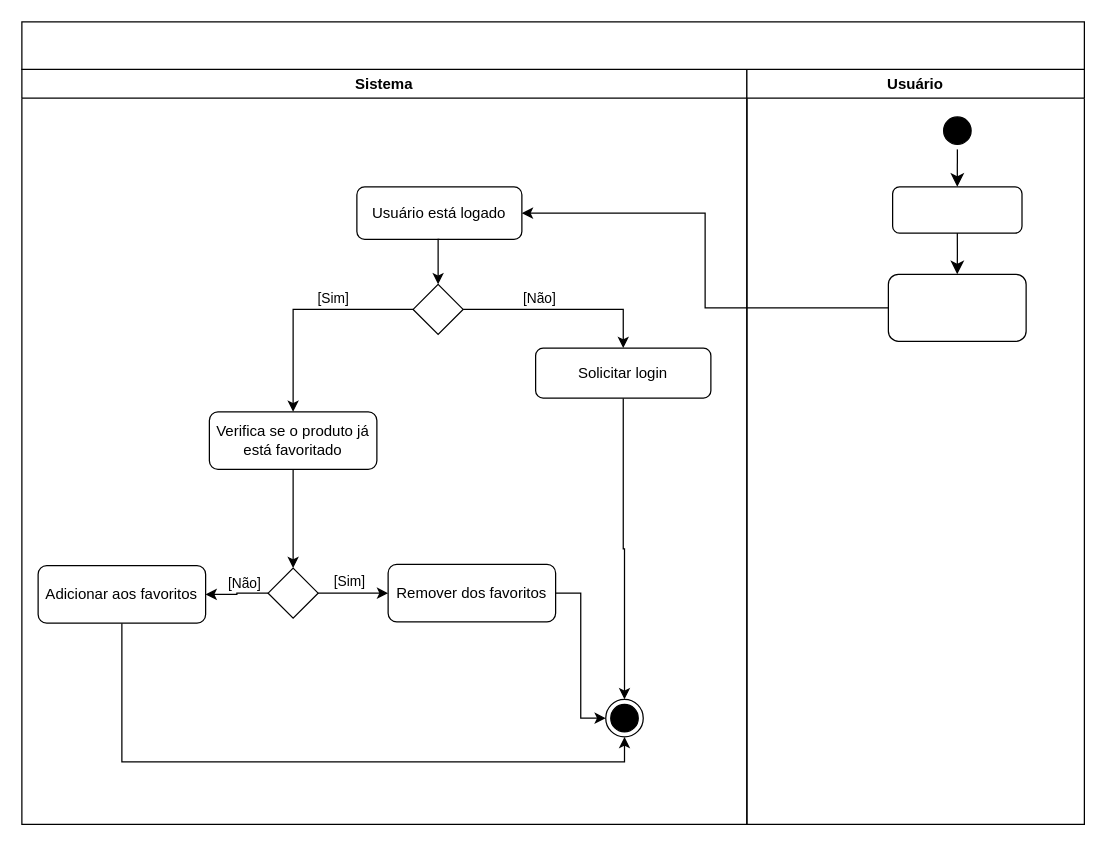
The diagram is 1106 pixels wide and 846 high, and some of its shapes have lost their labels. Here are the shapes that lost their labels. From the top down, the box of each, then its label:
(21, 21, 1084, 69): Diagrama de Atividades: Favoritar Produto
(891, 186, 1022, 233): Visualizar produto
(887, 273, 1026, 341): Clicar no botão favoritar
